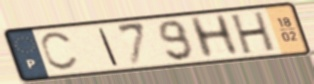7: (116, 20, 149, 68)
9: (157, 19, 198, 63)
C: (39, 30, 81, 73)
H: (186, 13, 242, 61), (229, 9, 277, 57)
I: (96, 27, 121, 67)
